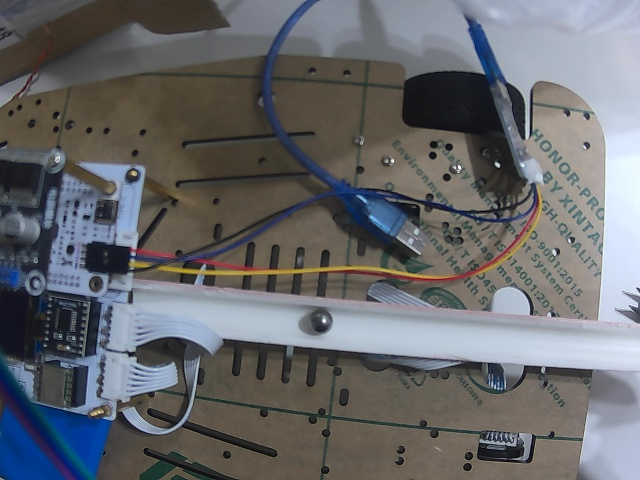steelball: (308, 310, 332, 333)
